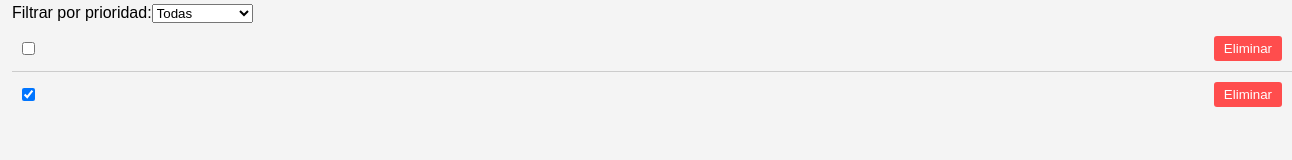
it: TaskList › filters tasks by priority
The width and height of the screenshot is (1292, 160).
Select "Alta" in the dropdown labelled "Filtrar por prioridad:" at (202, 14), box x1=152 y1=4 x2=253 y2=23
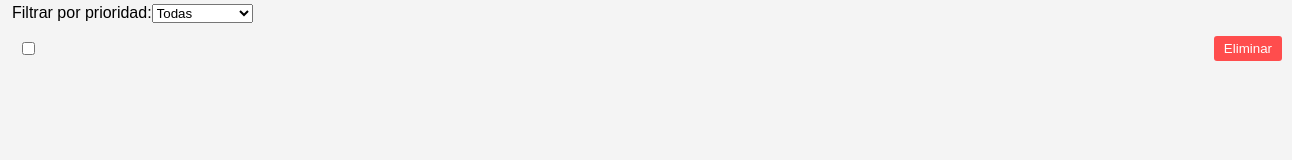
Expected: the list item reads "Eliminar", x1=1214 y1=36 x2=1282 y2=61
Now the number of list items is 1, box x1=22 y1=36 x2=1282 y2=61
